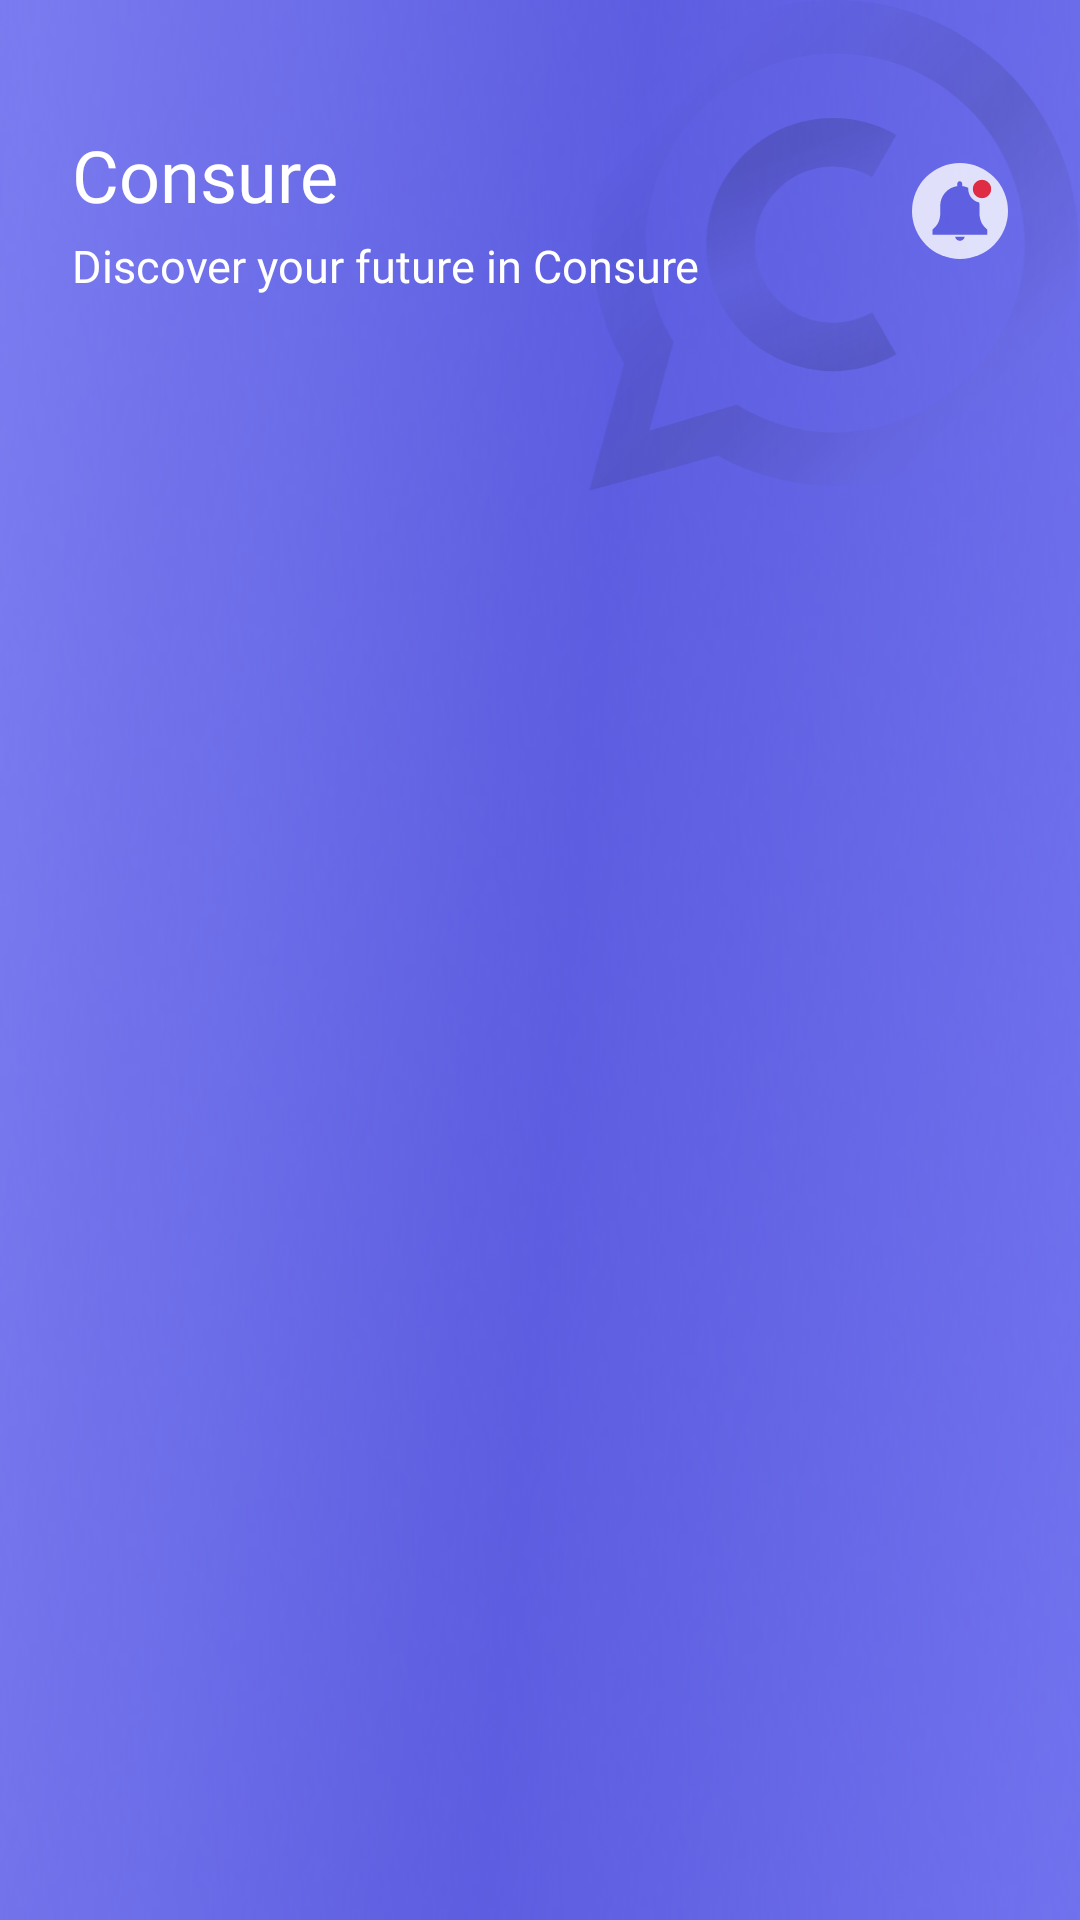

Named icons in this screenshot (1080 x 1920) and their centers, [x,y]:
notif on: [960,211]
